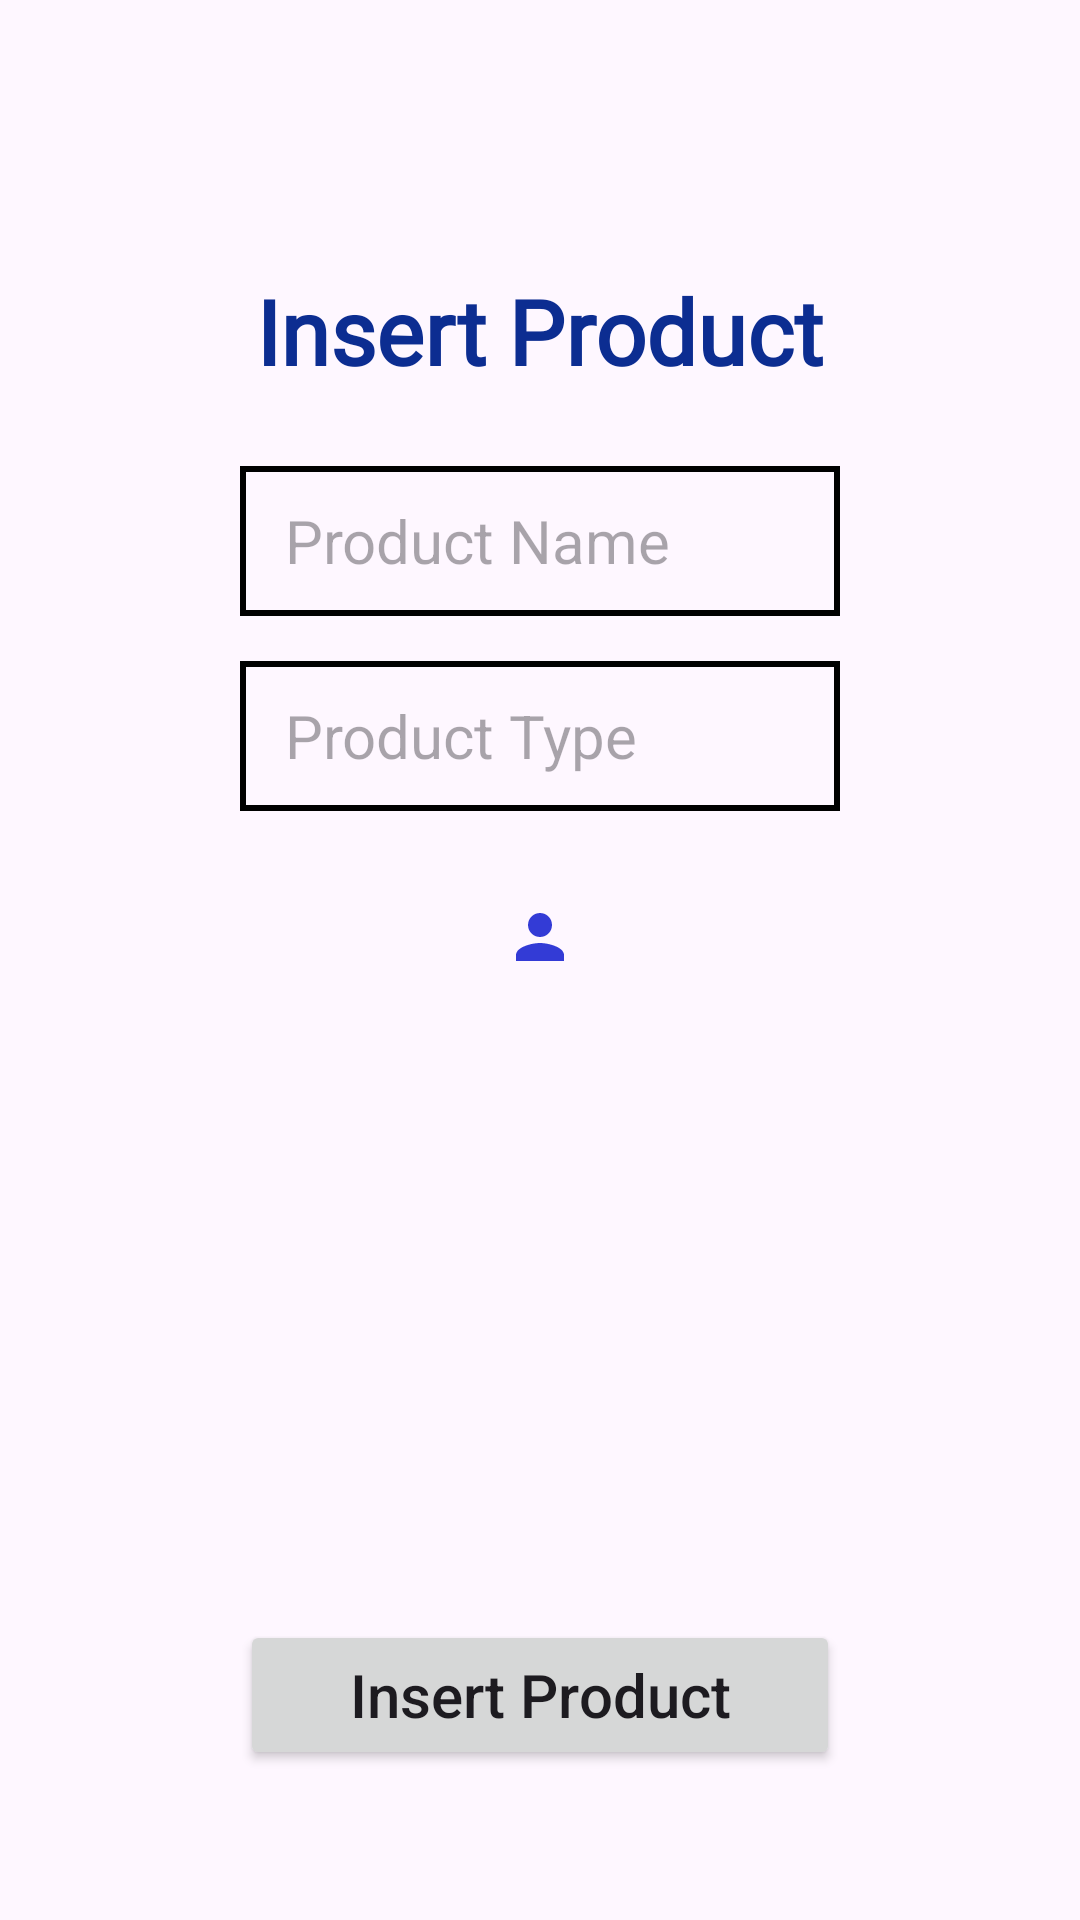

Named icons in this screenshot (1080px×1920px) and their bounding boxes, (x1, y1, x2, y2):
person: (516, 913, 564, 961)
